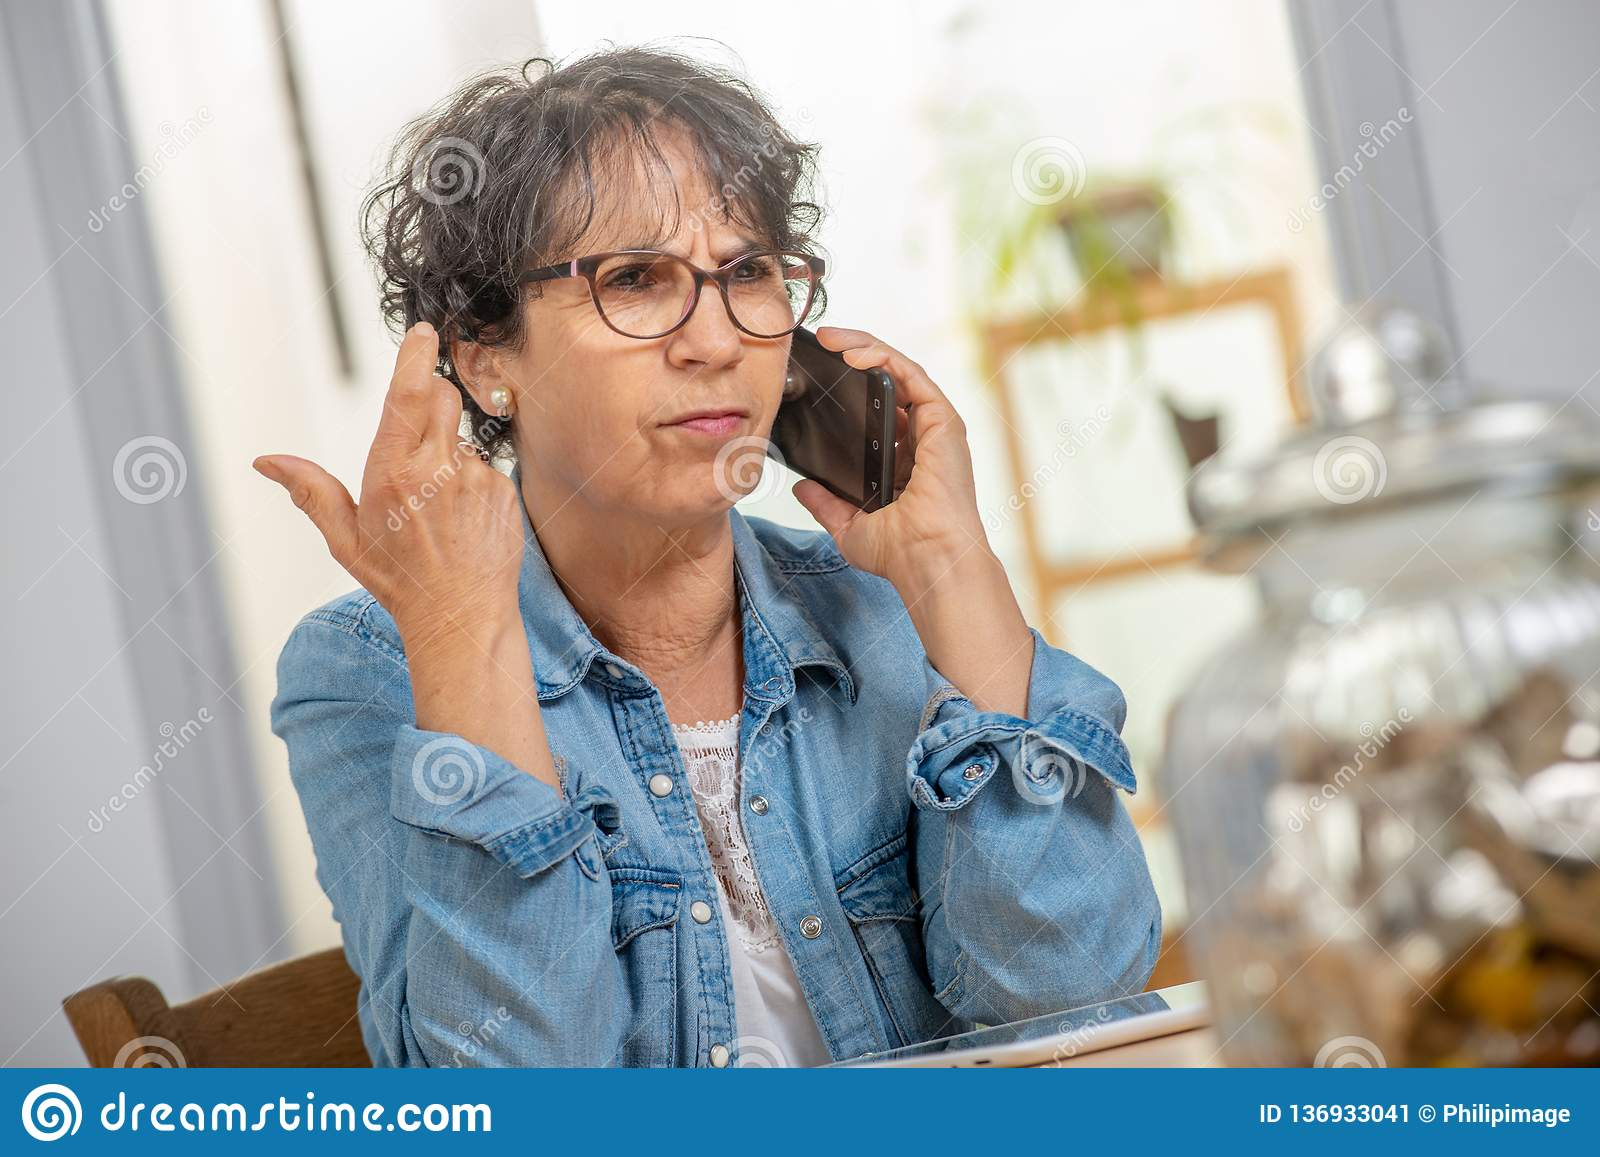phone: (754, 318, 906, 524)
talk: (576, 222, 986, 601)
